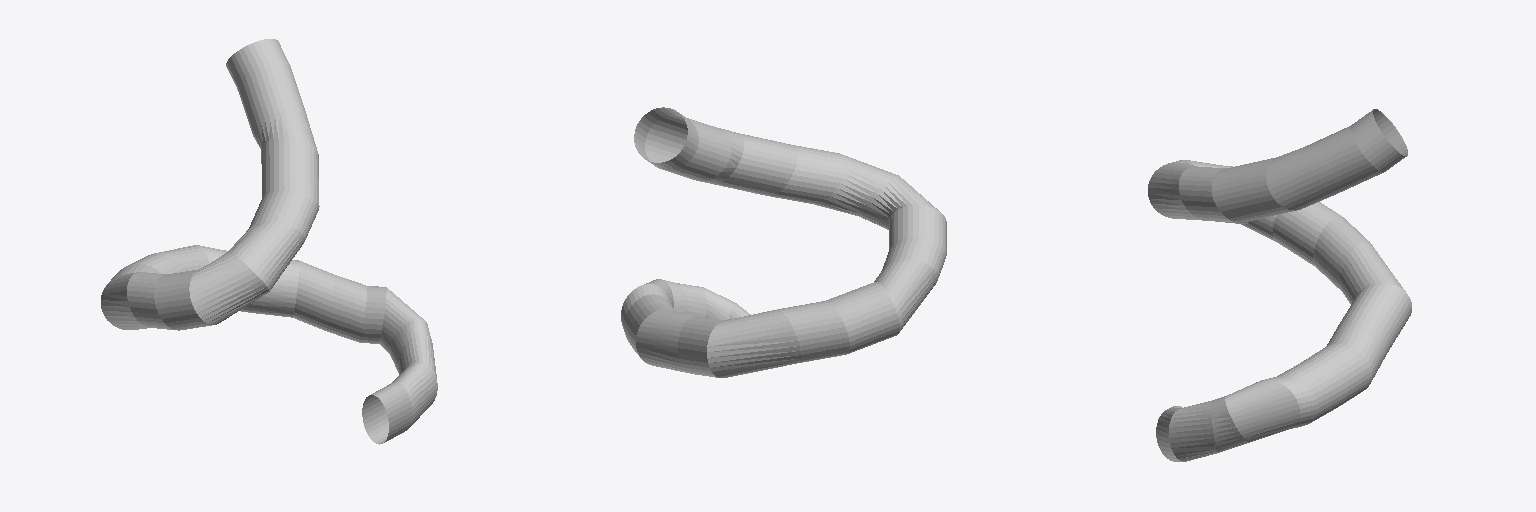
Rendered from TunnelFix.obj.
3 renders of one model, left to right at view 1: azimuth 30°, elevation 25°; view 2: azimuth 150°, elevation 25°; view 3: azimuth 270°, elevation 25°, orthographic.
Parts seen in each view (by area): view 1: Cylinder; view 2: Cylinder; view 3: Cylinder.
Part boxes in pixels (x1,y1,x2,y2): Cylinder: (101,39,437,444); Cylinder: (621,107,946,377); Cylinder: (1148,109,1411,461).
Bounding box in the file's own units: 23.63 × 25.79 × 18.27.